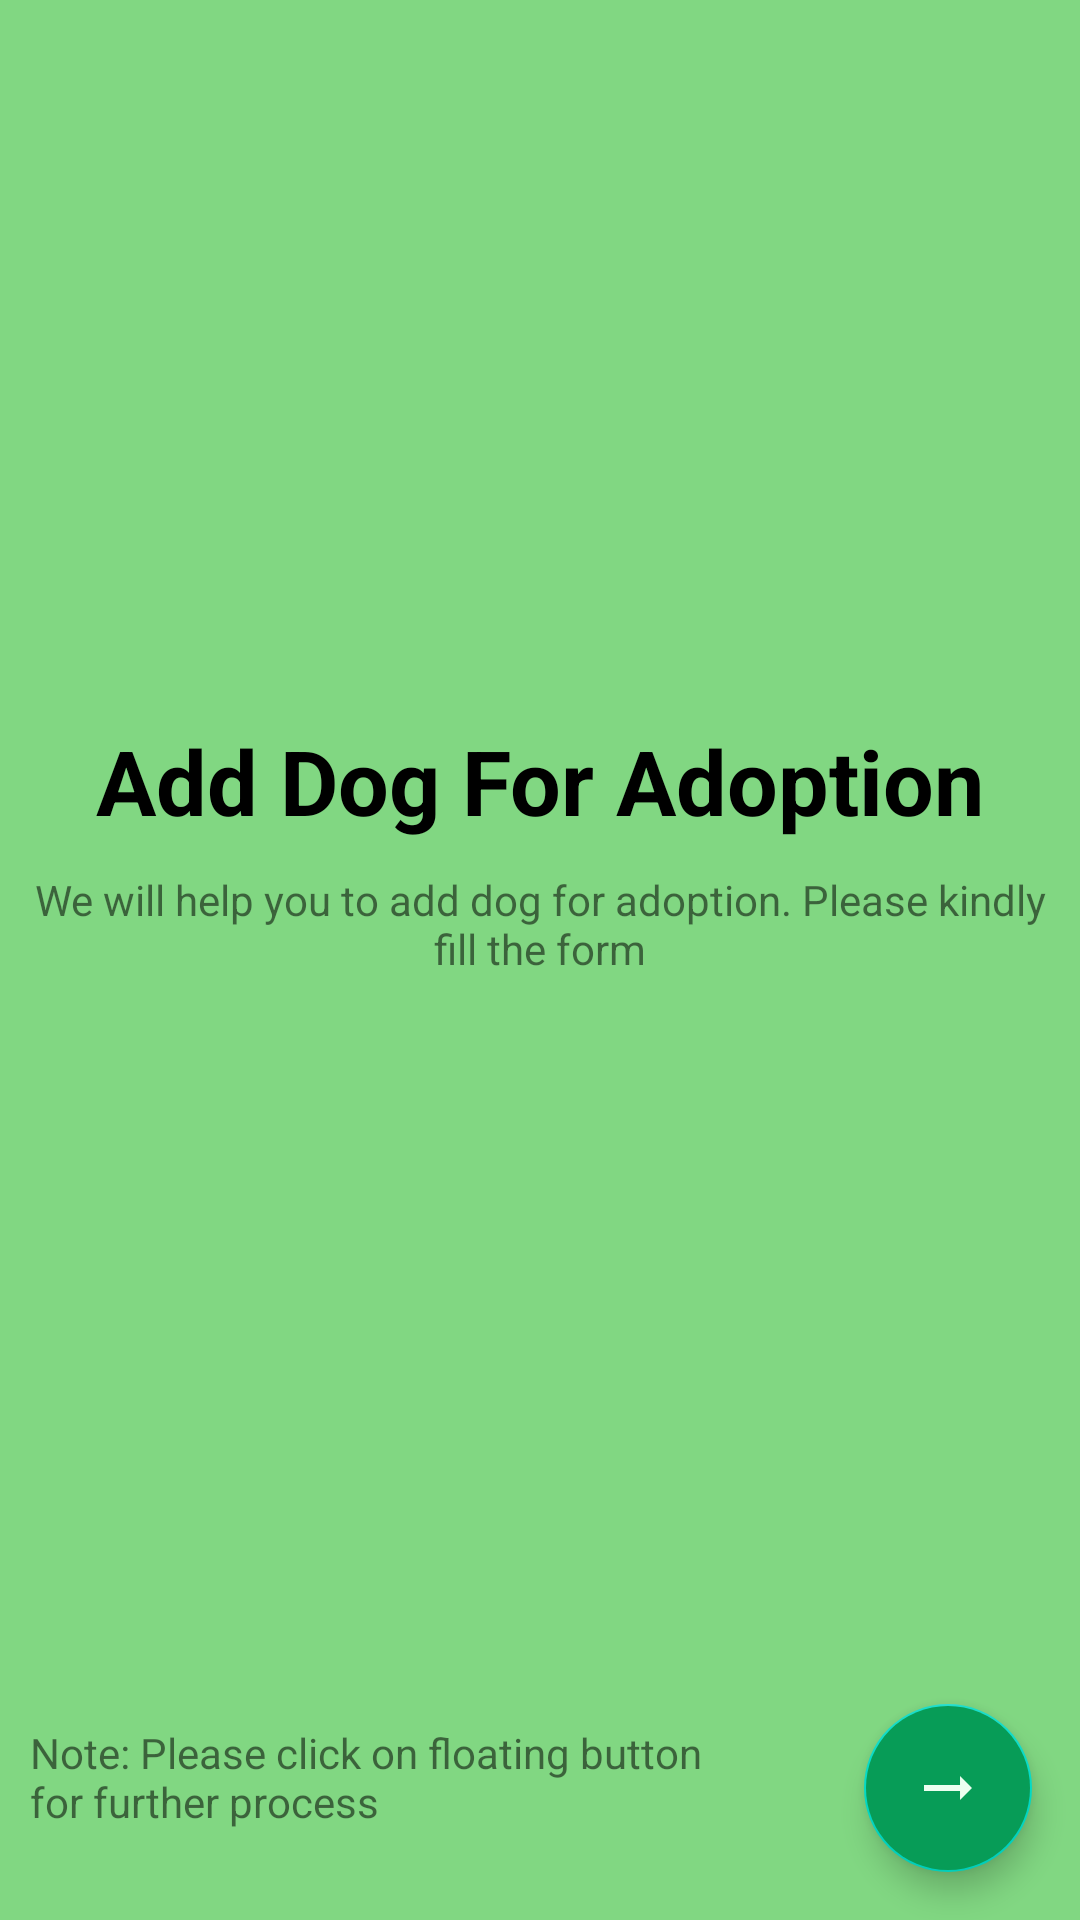

Screen size 1080px x 1920px. Icon name, then its box in pixels as (x1, y1, x2, y2):
submit: (864, 1704, 1032, 1872)
